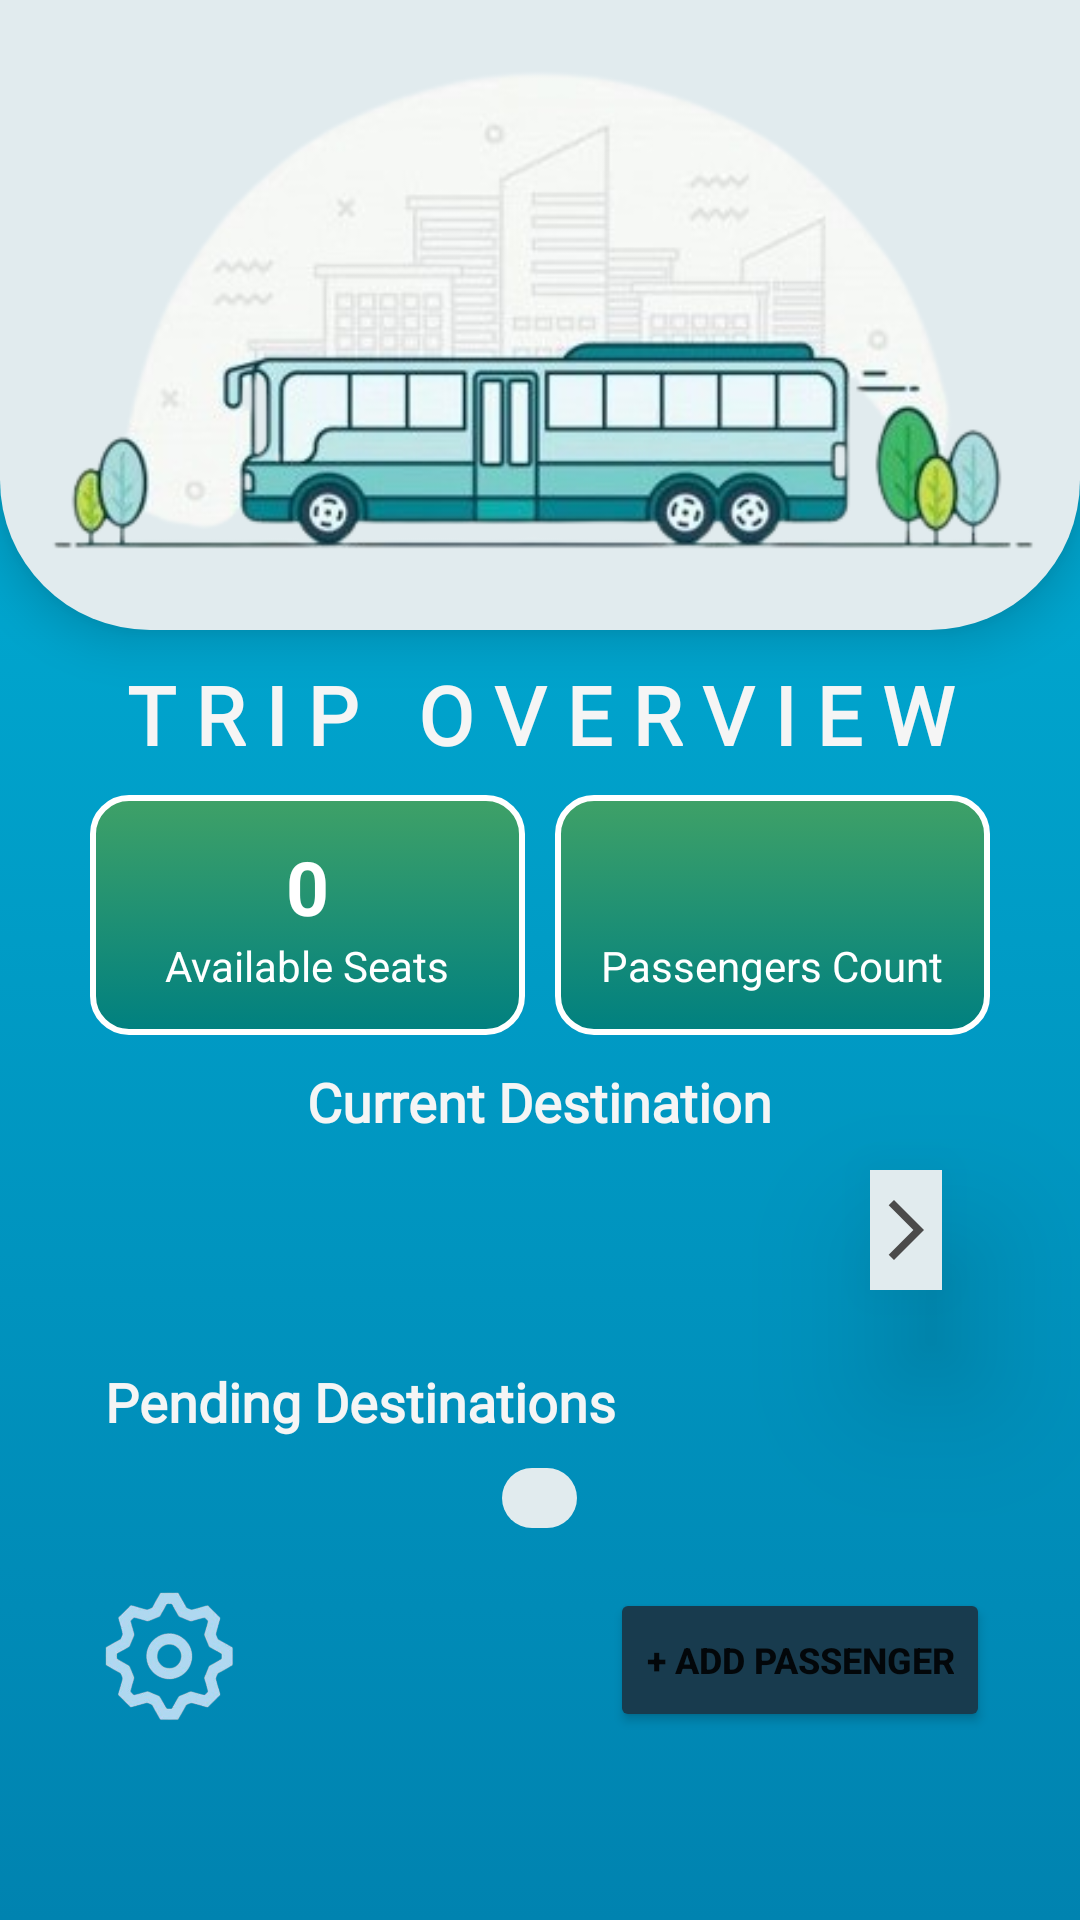

Icon click points for this 1080px×1920px phone screenshot, format [x,y]:
settings: [169,1656]
trip arrow next: [906,1230]
